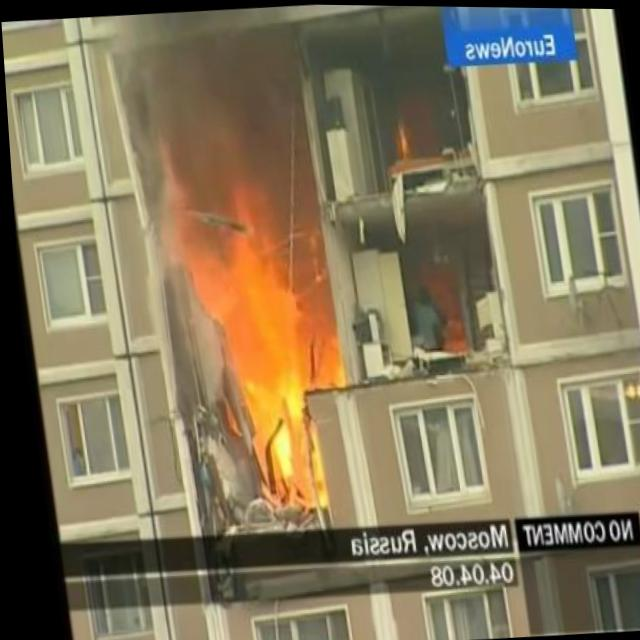fire: (201, 160, 317, 503)
